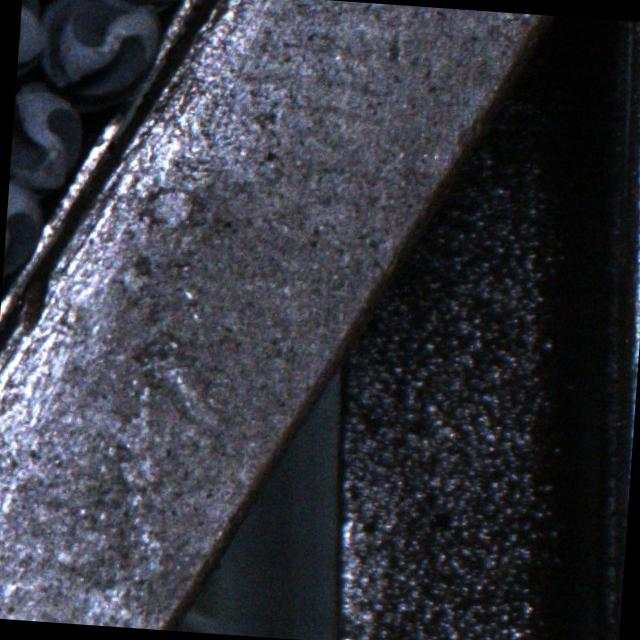tool_b: (30, 0, 160, 116), (8, 79, 84, 191), (2, 176, 45, 281), (15, 0, 48, 93), (80, 0, 187, 10)
